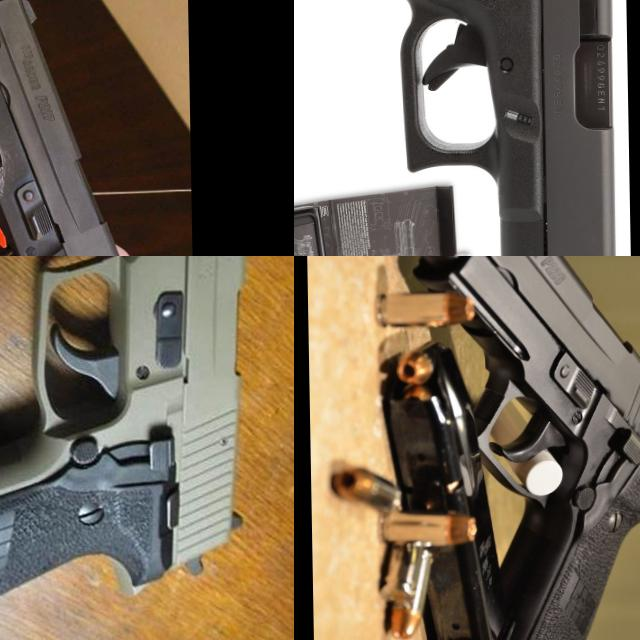handgun: (0, 256, 272, 632), (380, 256, 640, 640), (294, 0, 631, 256), (0, 0, 196, 256)
